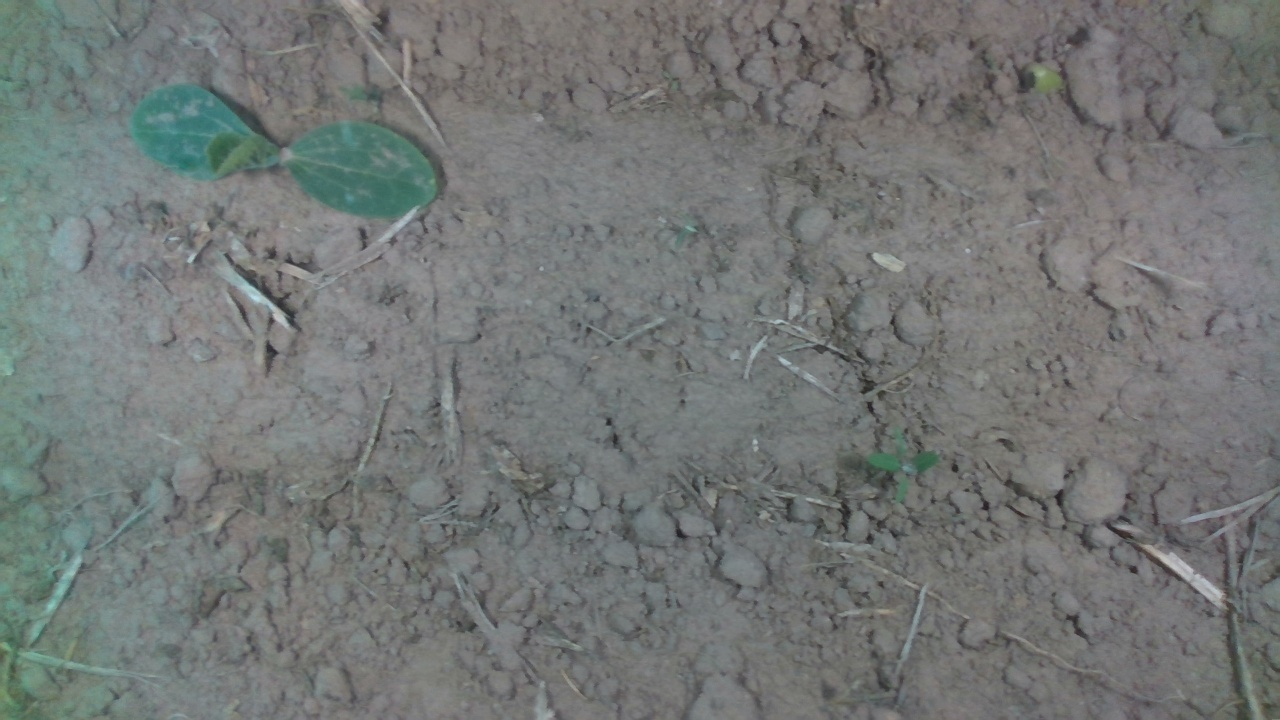crop: (126, 82, 439, 219)
weed: (867, 425, 939, 502)
